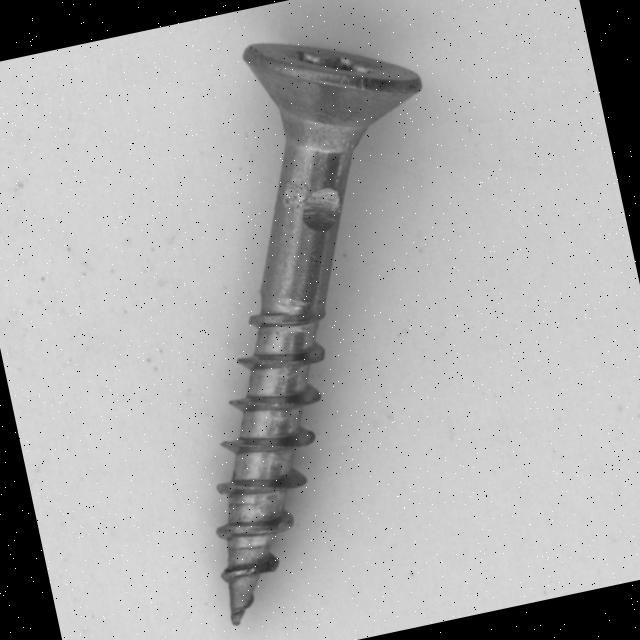scratch_neck: (293, 182, 351, 242), (268, 293, 308, 317)
